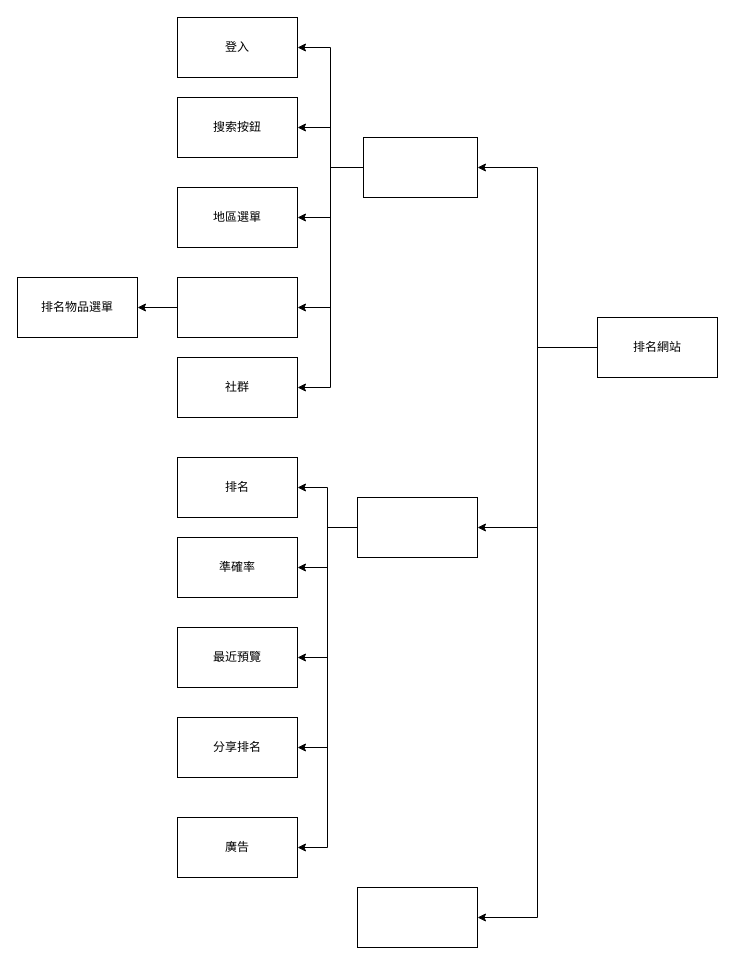
This 735x965 diagram has some shape labels left out. Here are the shapes that lost their labels. From the top down, the centre of each, then its label:
At (x=420, y=167): "header".
At (x=237, y=307): "種類選單".
At (x=417, y=527): "content".
At (x=417, y=917): "footer".
